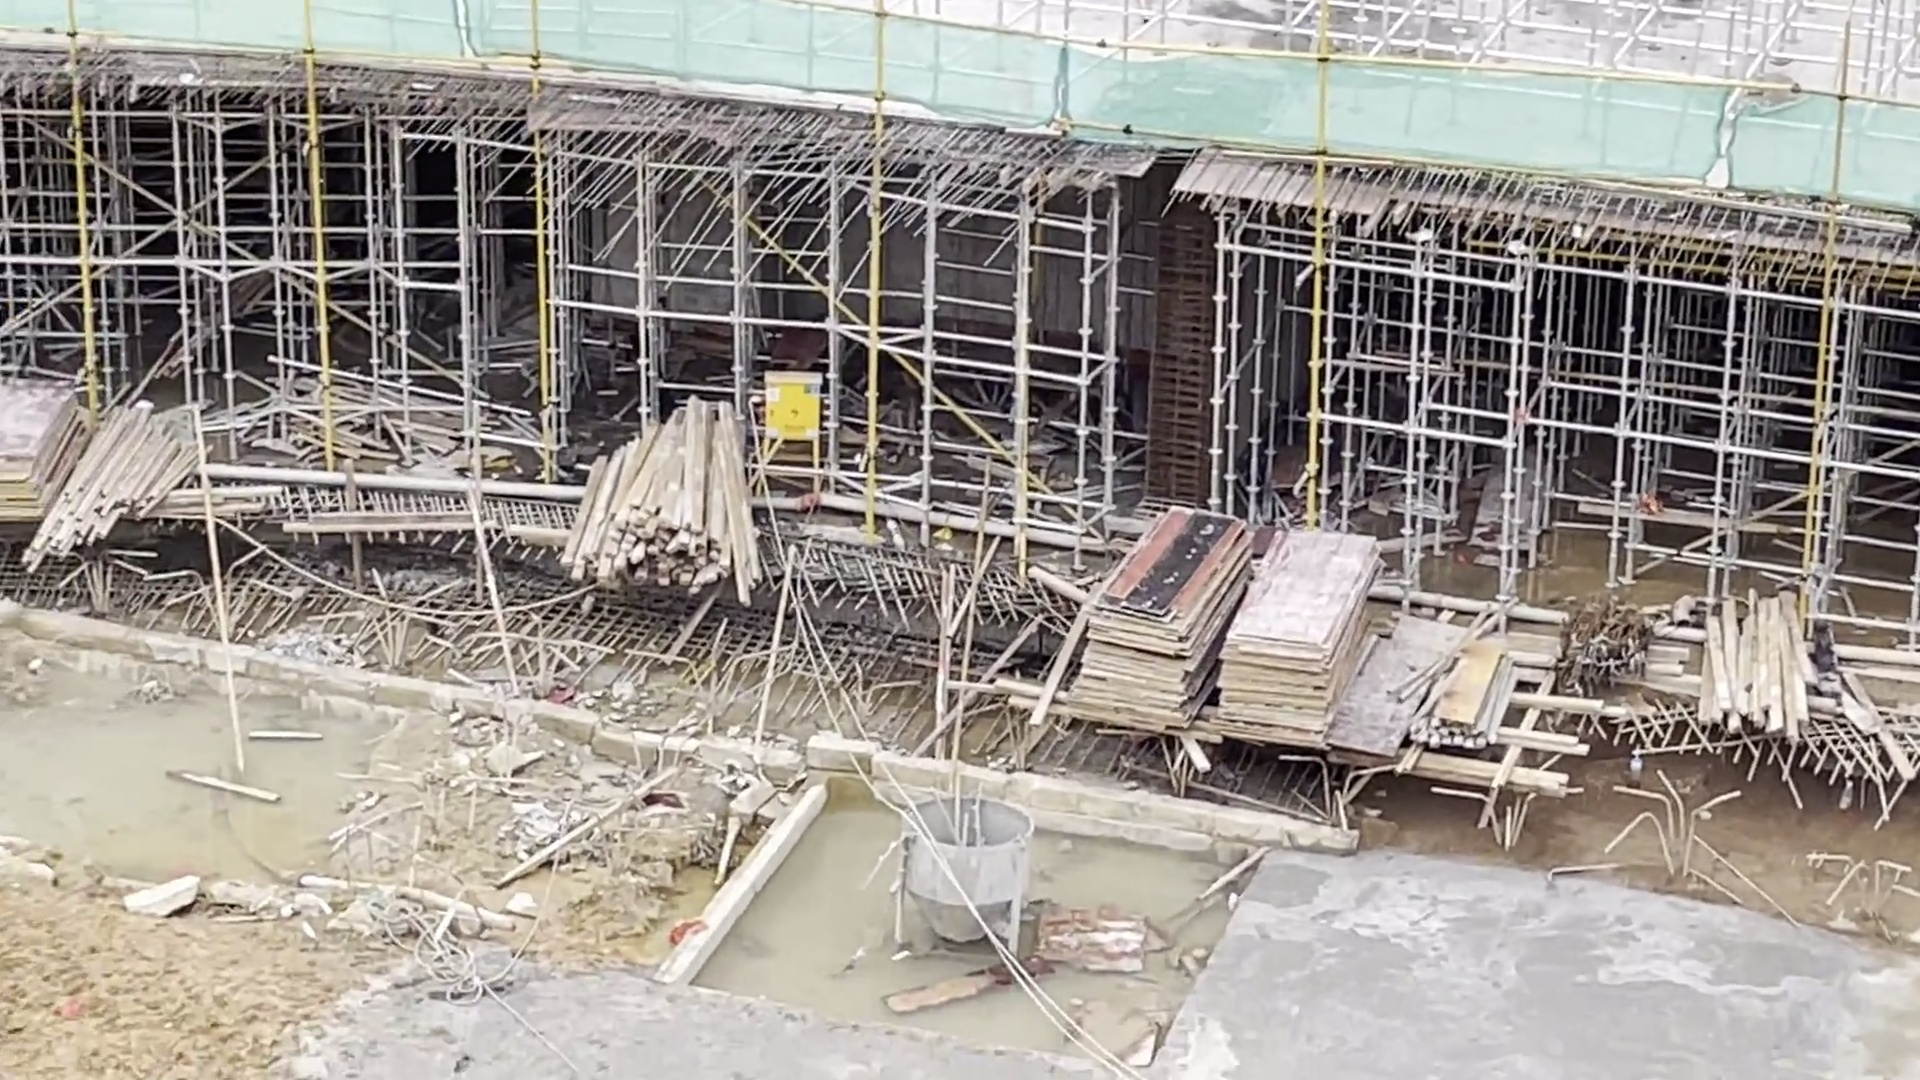board: (1064, 510, 1251, 725), (1209, 525, 1389, 737), (1, 375, 95, 516)
ebox: (760, 371, 822, 500)
wood: (571, 392, 758, 603), (1706, 585, 1818, 737)
